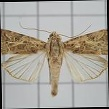Spodoptera litura: (1, 20, 108, 97)
